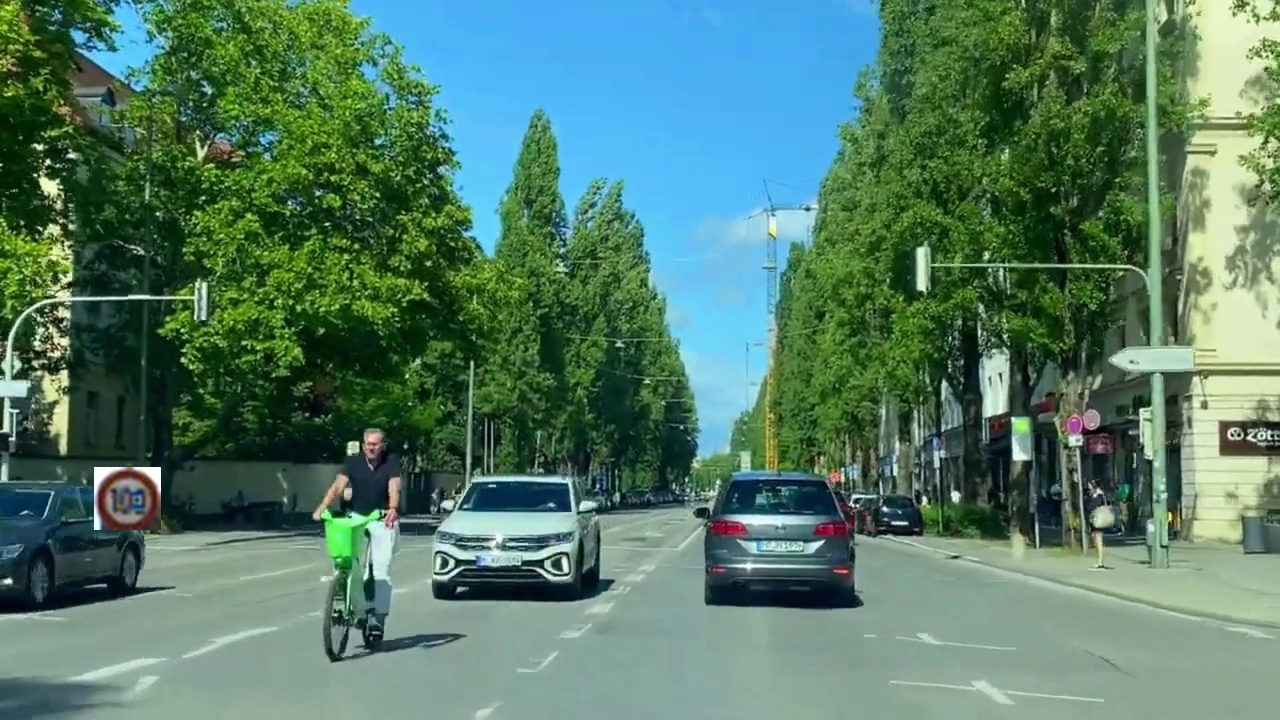Speed 100: (94, 467, 161, 530)
